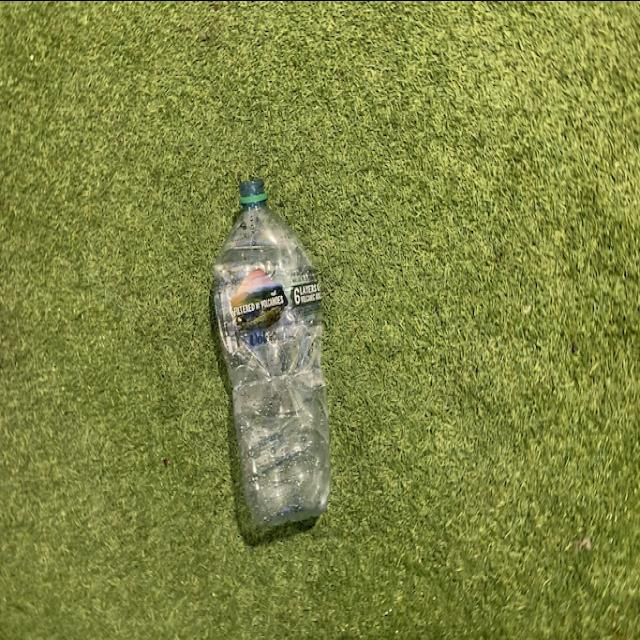litter: (214, 164, 330, 545)
